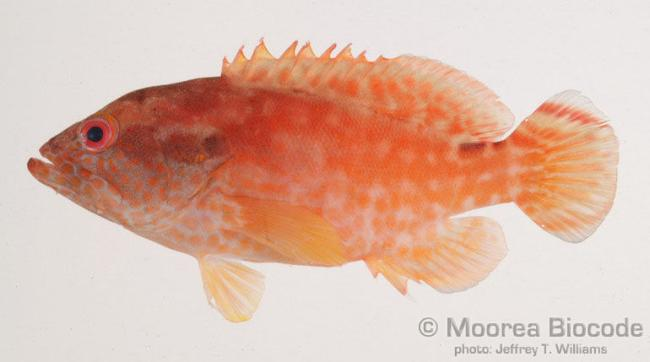fish: (27, 38, 621, 323)
